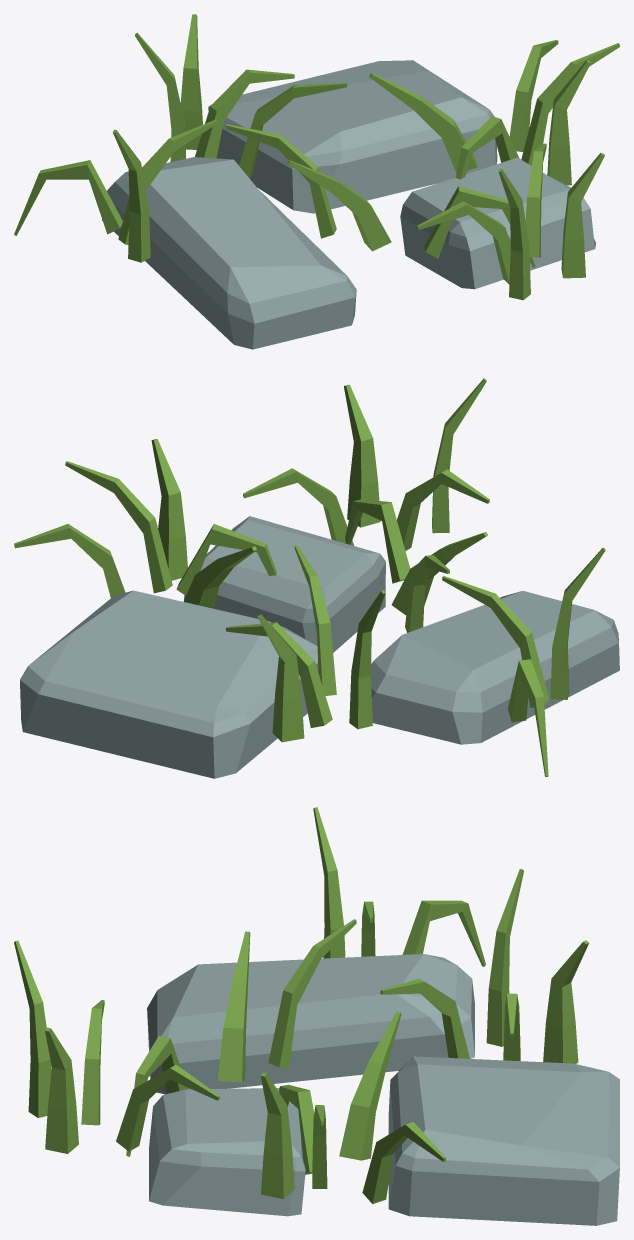
File: herbe2.fbx
3 views of the same model, one above another, from view 1: azimuth 30°, elevation 25°; view 2: azimuth 150°, elevation 25°; view 3: azimuth 270°, elevation 25° (orthographic). The views are drawn at different scales.
Parts seen in each view (by area): view 1: pCube29, pCube30, pCube31, pCube49, pCube45, pCube41, pCube50, pCube43, pCube37, pCube38, pCube33, pCube47 (+10 smaller); view 2: pCube30, pCube29, pCube31, pCube32, pCube41, pCube39, pCube49, pCube35, pCube33, pCube45, pCube36, pCube44 (+10 smaller); view 3: pCube30, pCube29, pCube31, pCube38, pCube49, pCube41, pCube32, pCube37, pCube50, pCube47, pCube35, pCube46 (+10 smaller).
Boxes of the visible parts, x1,y1,x2,y2 form: pCube29: [102, 157, 356, 349]; pCube30: [208, 60, 497, 213]; pCube31: [400, 157, 595, 289]; pCube49: [561, 153, 604, 278]; pCube45: [113, 129, 150, 262]; pCube41: [547, 60, 590, 185]; pCube50: [498, 168, 530, 300]; pCube43: [14, 160, 122, 235]; pCube37: [287, 160, 391, 251]; pCube38: [369, 73, 477, 172]; pCube33: [195, 69, 294, 158]; pCube47: [225, 124, 336, 238]; pCube30: [20, 590, 318, 778]; pCube29: [371, 591, 619, 744]; pCube31: [184, 516, 385, 652]; pCube32: [257, 614, 304, 742]; pCube41: [151, 439, 187, 580]; pCube39: [65, 461, 172, 593]; pCube49: [344, 384, 380, 527]; pCube35: [349, 590, 385, 729]; pCube33: [225, 622, 332, 727]; pCube45: [550, 547, 605, 699]; pCube36: [345, 499, 410, 583]; pCube44: [442, 576, 549, 707]; pCube30: [388, 1056, 619, 1225]; pCube29: [147, 954, 474, 1094]; pCube31: [149, 1088, 305, 1216]; pCube38: [339, 1012, 401, 1160]; pCube49: [45, 1027, 78, 1153]; pCube41: [260, 1072, 294, 1198]; pCube32: [543, 940, 588, 1063]; pCube37: [217, 931, 250, 1082]; pCube50: [14, 940, 51, 1118]; pCube47: [268, 919, 356, 1068]; pCube35: [486, 869, 523, 1046]; pCube46: [116, 1064, 219, 1151].
Size of the model in its own units: 97.93 by 32.43 by 88.08.
